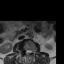CCS_normal: (27, 48, 28, 57)
LFS_normal: (30, 47, 33, 54)
LLS_normal: (28, 48, 30, 55)
RFS_severe_stenosis: (23, 47, 25, 54)
RLS_normal: (25, 48, 27, 55)
